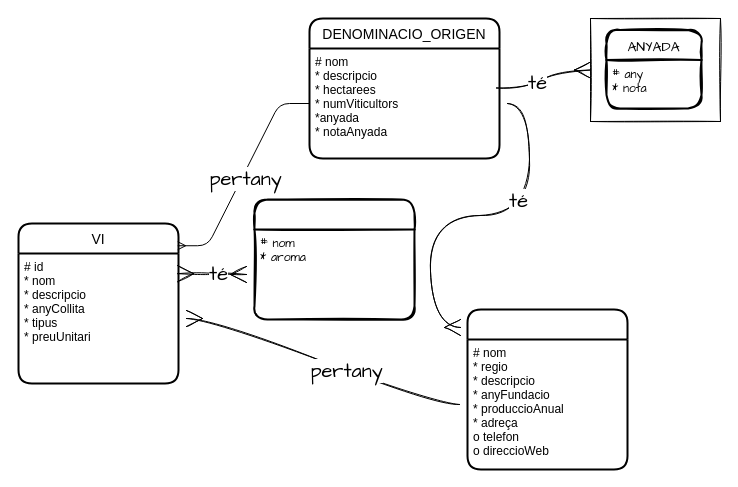
The diagram is 738 pixels wide and 487 high, and some of its shapes have lost their labels. Each missing label, with the box of its shape:
BODEGA: (466, 308, 628, 470)
VARIETAT RAÏM: (253, 198, 415, 320)
